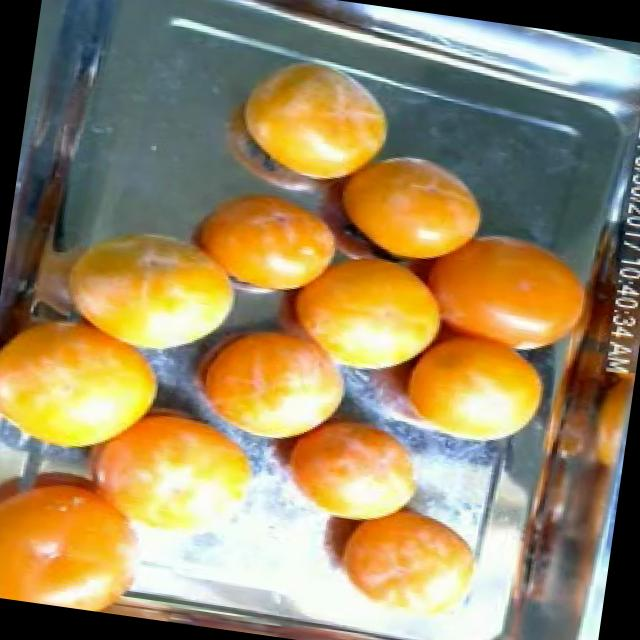Fruit: (31, 200, 270, 374), (0, 289, 190, 474), (300, 485, 511, 635), (168, 299, 372, 452), (216, 40, 411, 196), (247, 393, 444, 543), (164, 165, 358, 315), (324, 133, 503, 275), (448, 214, 600, 366)
